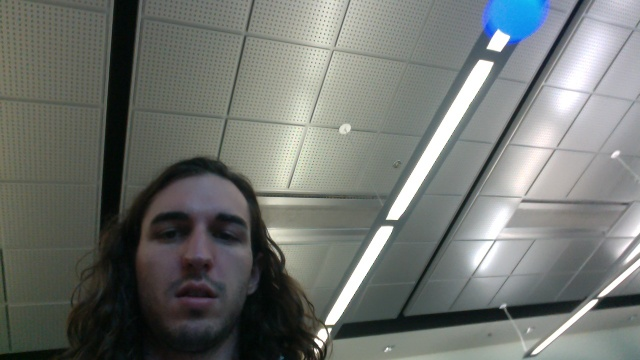wand: (487, 1, 549, 41)
